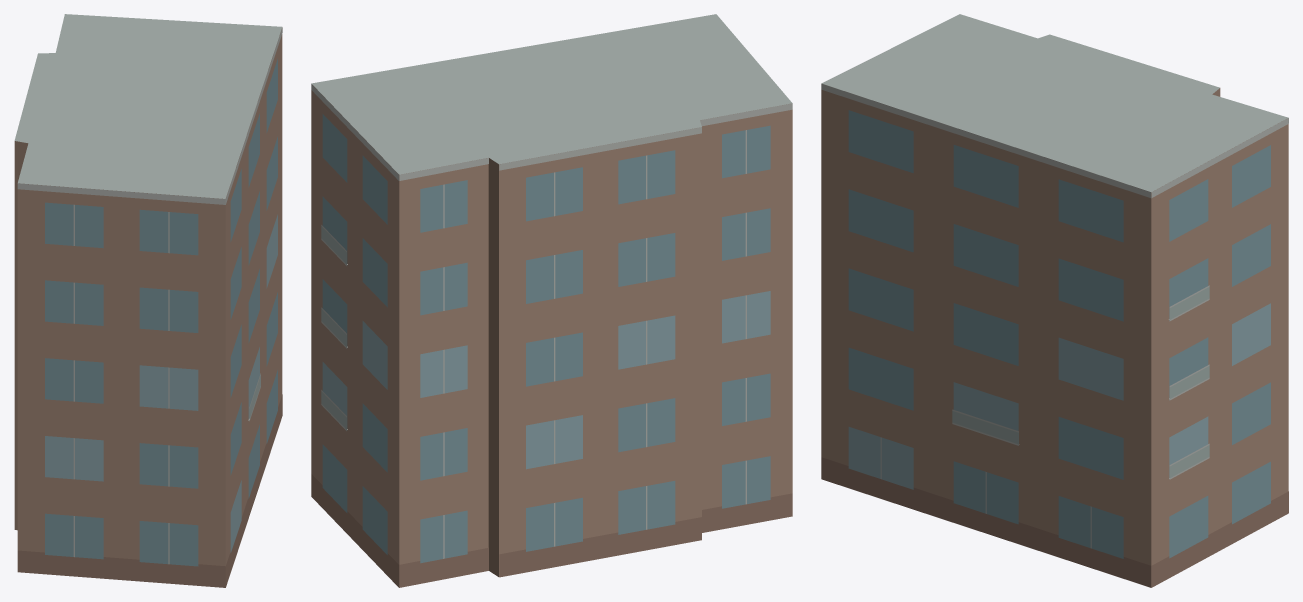
File: survey-upis-32885556.glb
3 renders of one model, left to right at view 1: azimuth 30°, elevation 25°; view 2: azimuth 150°, elevation 25°; view 3: azimuth 270°, elevation 25°, orthographic. The views are drawn at different scales.
Visible parts, largest first — view 1: survey-upis-32885556.tmp; view 2: survey-upis-32885556.tmp; view 3: survey-upis-32885556.tmp.
Boxes of the visible parts, x1,y1,x2,y2 form: survey-upis-32885556.tmp: (14,14,282,587); survey-upis-32885556.tmp: (311,14,792,587); survey-upis-32885556.tmp: (821,14,1288,587).
Size of the model in its own units: 15.27 by 15.8 by 16.93.
